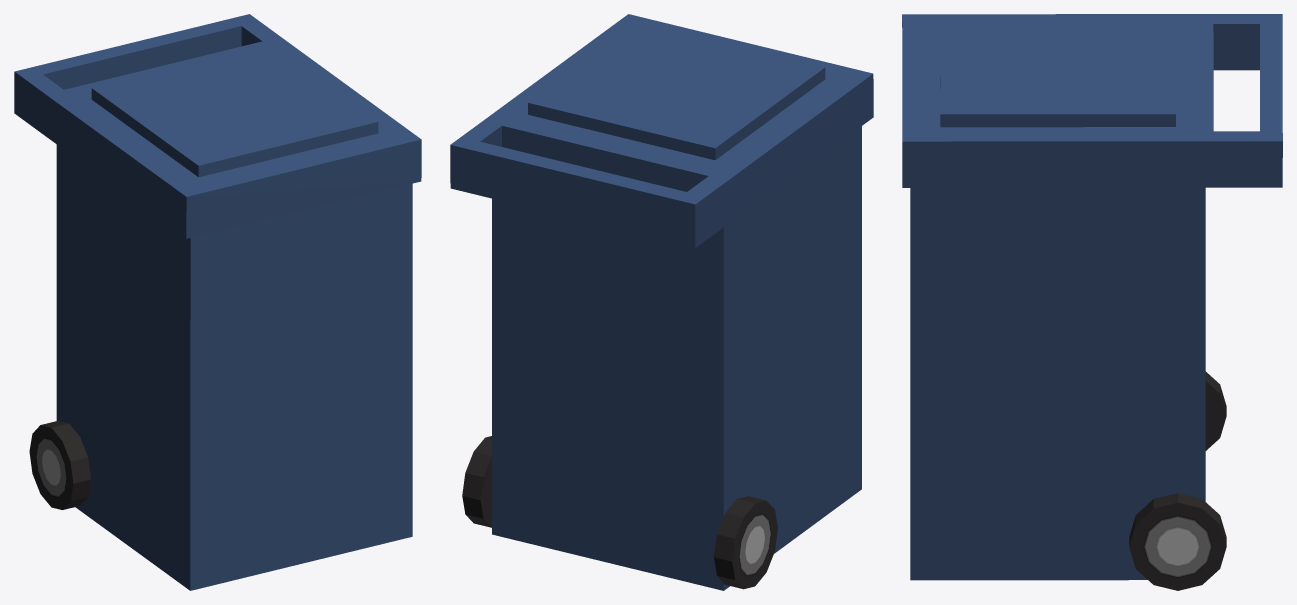
File: SM_WheelieBin_Closed_03.fbx
3 views of the same model, side by side, from view 1: azimuth 30°, elevation 25°; view 2: azimuth 150°, elevation 25°; view 3: azimuth 270°, elevation 25° (orthographic). The views are drawn at different scales.
Parts seen in each view (by area): view 1: SM_WheelieBin_Closed_03; view 2: SM_WheelieBin_Closed_03; view 3: SM_WheelieBin_Closed_03.
Boxes of the visible parts, x1,y1,x2,y2 form: SM_WheelieBin_Closed_03: (14,14,421,590); SM_WheelieBin_Closed_03: (450,14,873,590); SM_WheelieBin_Closed_03: (902,14,1282,590).
Bounding box in the file's own units: 1.17 × 1.76 × 1.34.
